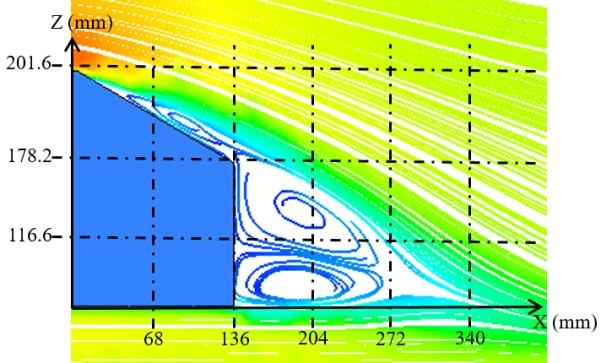vortox: (236, 153, 372, 257), (237, 248, 392, 305)
